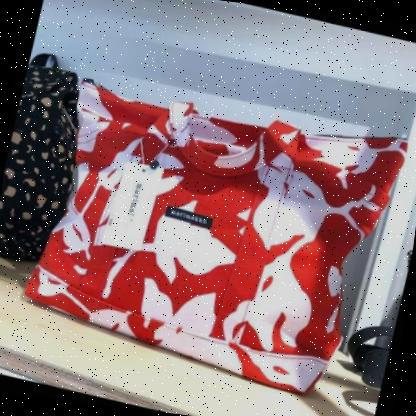bag: (19, 67, 416, 406)
